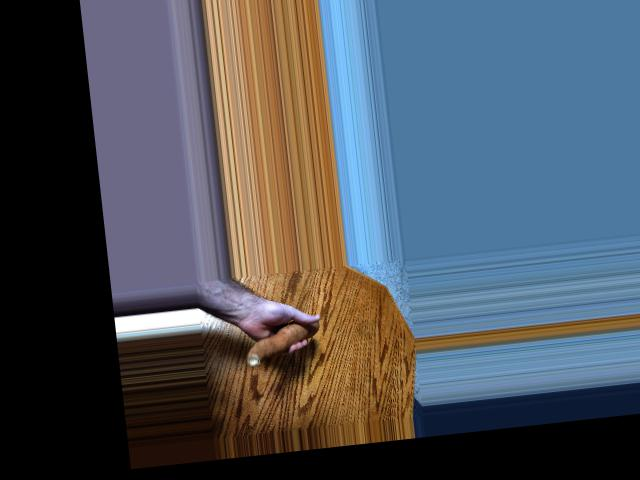sweet_potato: (239, 317, 321, 365)
